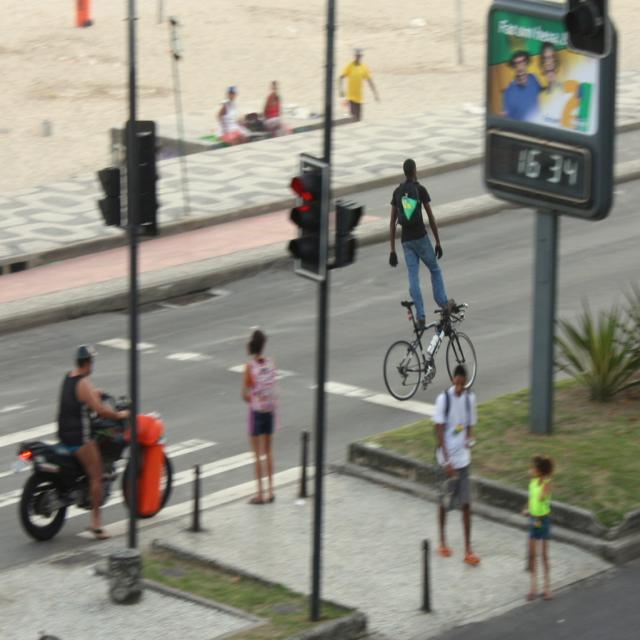off traffic light: (126, 123, 158, 234), (332, 190, 363, 274)
traffic light: (287, 166, 322, 273)
